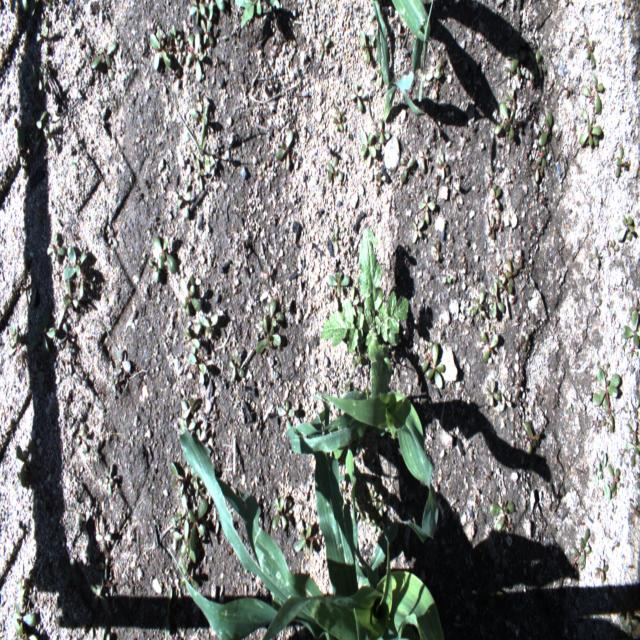crop: (167, 432, 446, 640), (284, 389, 434, 487), (372, 0, 433, 119)
weed: (320, 225, 410, 394), (592, 362, 624, 433), (178, 95, 206, 156), (11, 572, 37, 637), (416, 338, 446, 388), (31, 306, 58, 358), (578, 106, 606, 155), (570, 528, 594, 584), (152, 233, 180, 278), (236, 1, 281, 29), (499, 255, 524, 303), (580, 71, 606, 117), (86, 41, 118, 78), (179, 272, 203, 319), (328, 264, 356, 303), (489, 498, 516, 536), (60, 247, 91, 280), (256, 316, 283, 352), (493, 104, 518, 142), (149, 27, 171, 70), (479, 320, 500, 364), (175, 520, 197, 561), (17, 442, 37, 487), (170, 464, 199, 495), (621, 306, 640, 352), (88, 577, 110, 616), (356, 126, 378, 164), (275, 127, 293, 172), (535, 108, 553, 152), (506, 52, 526, 91), (602, 463, 621, 504), (468, 286, 490, 321), (188, 36, 205, 81), (160, 580, 173, 636), (616, 214, 640, 244), (530, 144, 548, 183), (180, 553, 200, 588), (491, 276, 506, 322), (524, 419, 542, 457), (33, 18, 51, 56), (294, 524, 315, 556), (326, 154, 344, 190), (190, 501, 207, 539), (526, 48, 542, 88), (425, 56, 446, 85), (200, 312, 221, 340), (618, 608, 639, 636), (20, 266, 36, 302), (273, 494, 287, 533), (61, 556, 78, 588), (229, 352, 245, 385), (113, 348, 130, 379), (625, 434, 640, 469), (583, 29, 596, 69), (59, 322, 74, 356), (96, 522, 113, 552), (417, 146, 431, 182), (177, 183, 191, 219), (360, 31, 374, 67), (418, 200, 436, 227), (273, 402, 295, 424), (436, 150, 451, 182), (616, 146, 631, 178), (104, 464, 118, 498), (399, 157, 416, 185), (487, 378, 502, 409), (268, 299, 284, 328), (375, 121, 391, 150), (26, 140, 40, 173), (183, 396, 204, 418), (410, 215, 426, 243), (192, 159, 205, 193), (51, 231, 67, 258), (80, 422, 92, 457), (6, 322, 20, 352), (350, 83, 365, 111), (63, 282, 78, 310), (185, 329, 203, 352), (318, 34, 335, 58), (330, 213, 341, 250), (595, 562, 611, 587), (430, 238, 444, 266), (81, 276, 95, 304), (88, 622, 112, 638), (100, 554, 112, 584), (595, 454, 606, 486), (169, 22, 185, 44), (31, 63, 43, 92), (490, 178, 502, 207), (189, 353, 208, 371), (628, 398, 638, 432), (192, 107, 210, 124), (190, 2, 207, 20), (208, 0, 226, 17), (331, 115, 346, 135), (589, 243, 605, 261), (32, 109, 48, 127), (518, 332, 531, 354), (176, 40, 187, 64), (176, 500, 188, 522), (44, 124, 54, 150), (204, 154, 217, 174), (201, 18, 213, 39), (328, 98, 346, 112), (488, 214, 497, 242), (19, 130, 29, 155), (366, 488, 379, 506), (378, 496, 389, 517), (42, 486, 51, 510), (504, 86, 517, 101), (77, 511, 89, 527), (40, 65, 49, 85), (356, 503, 364, 523), (147, 256, 156, 271), (607, 243, 621, 252), (443, 276, 453, 286), (70, 159, 78, 169), (566, 87, 572, 99), (21, 0, 28, 9), (340, 226, 347, 234), (569, 402, 573, 414)
